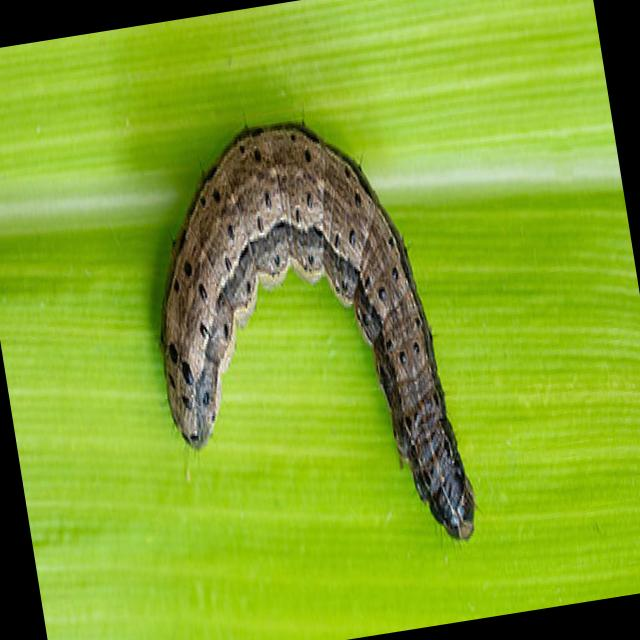Armyworm: (105, 61, 525, 640)
